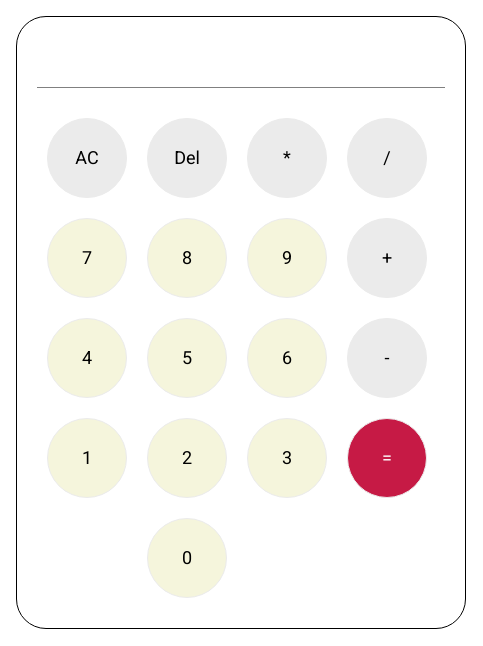
Test case: Test Application › Should calculate values
Check: the field is empty, box [37,36,445,88]
Click the button "2" at {"x": 187, "y": 458}, box [147,418,227,498]
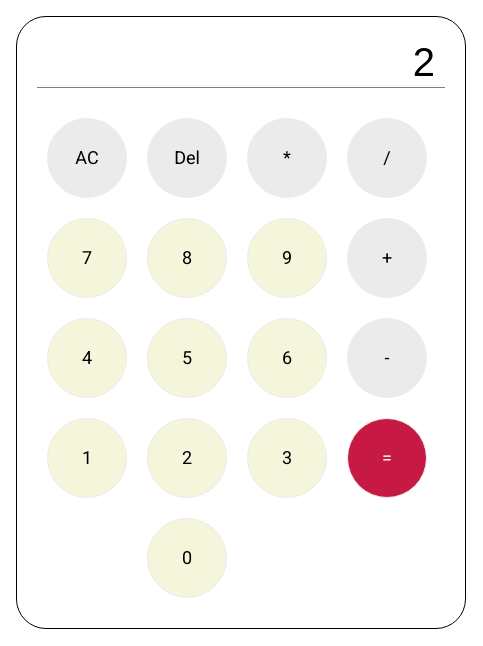
Click the button "+" at {"x": 387, "y": 258}, box [347,218,427,298]
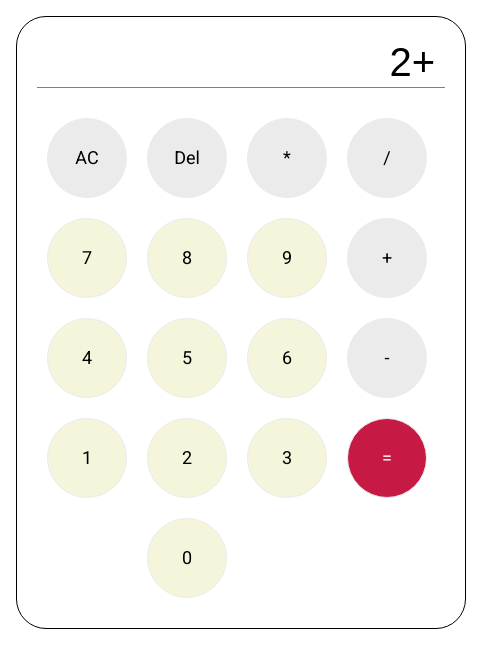
Click the button "2" at {"x": 187, "y": 458}, box [147,418,227,498]
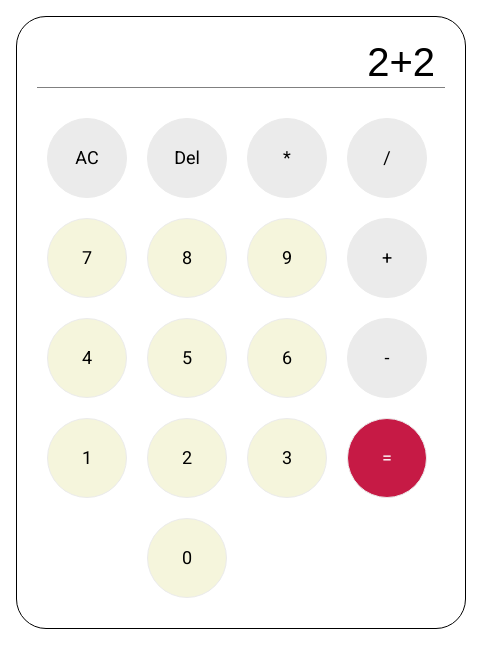
Click the button "*" at {"x": 287, "y": 158}, box [247,118,327,198]
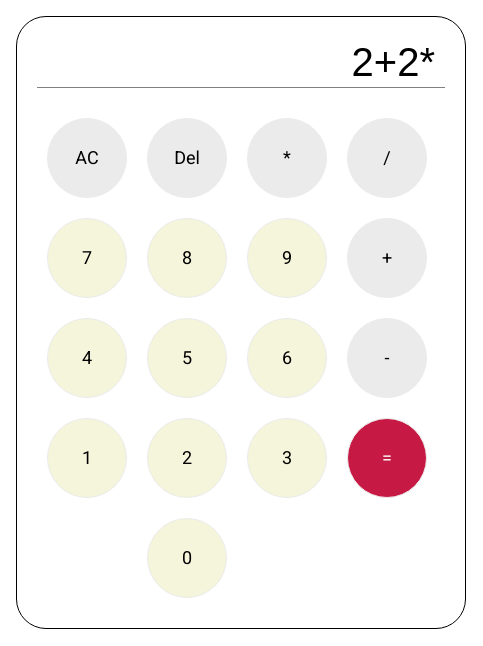
Click the button "2" at {"x": 187, "y": 458}, box [147,418,227,498]
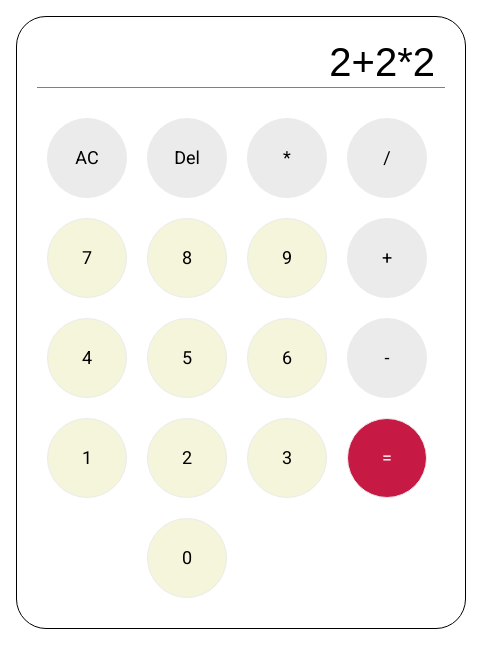
Click the button "=" at {"x": 387, "y": 458}, box [347,418,427,498]
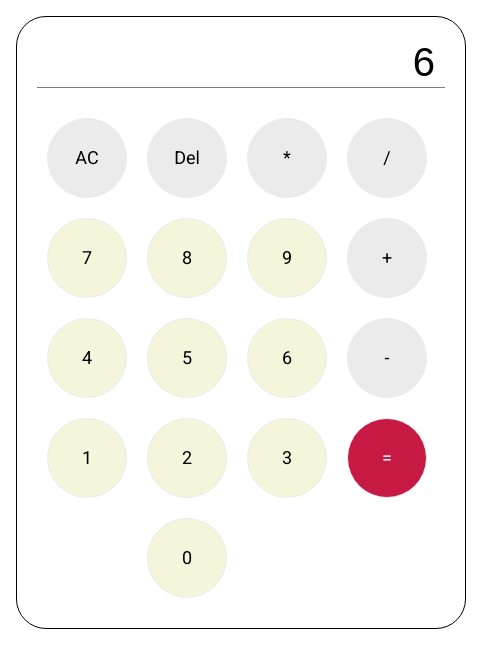
Check: the field holds "6", box [37,36,445,88]
